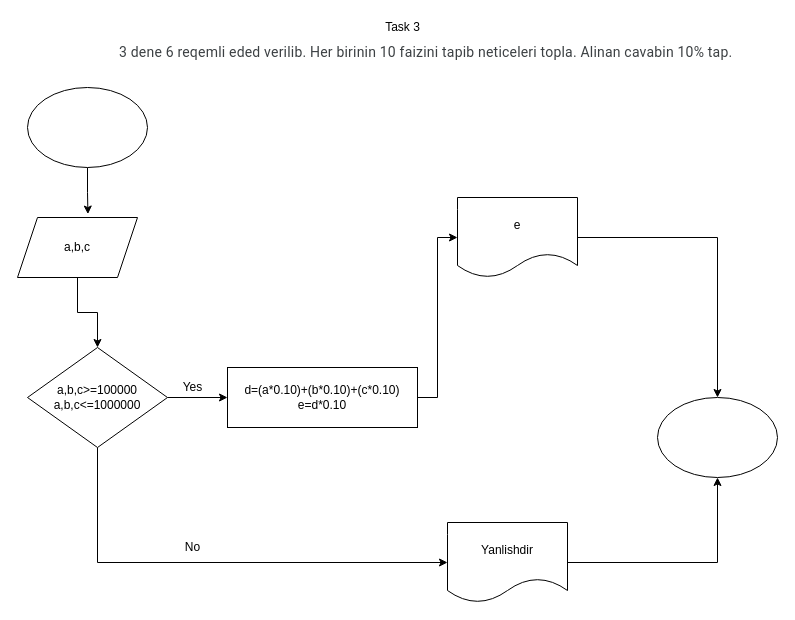
The diagram is 795 pixels wide and 620 high, and some of its shapes have lost their labels. The box of each missing label's shape, as (x1, y1, x2, y2) in pixels:
END: (656, 396, 778, 478)
START: (26, 86, 148, 168)
